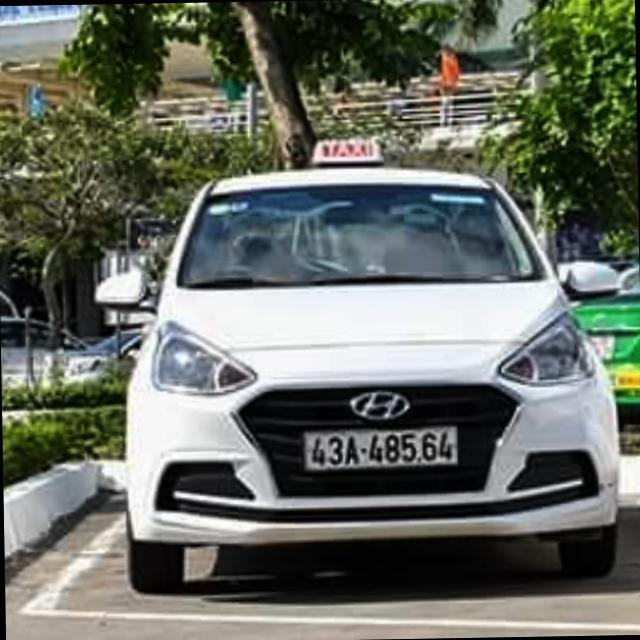car: (87, 162, 626, 584)
plate: (295, 420, 464, 477)
